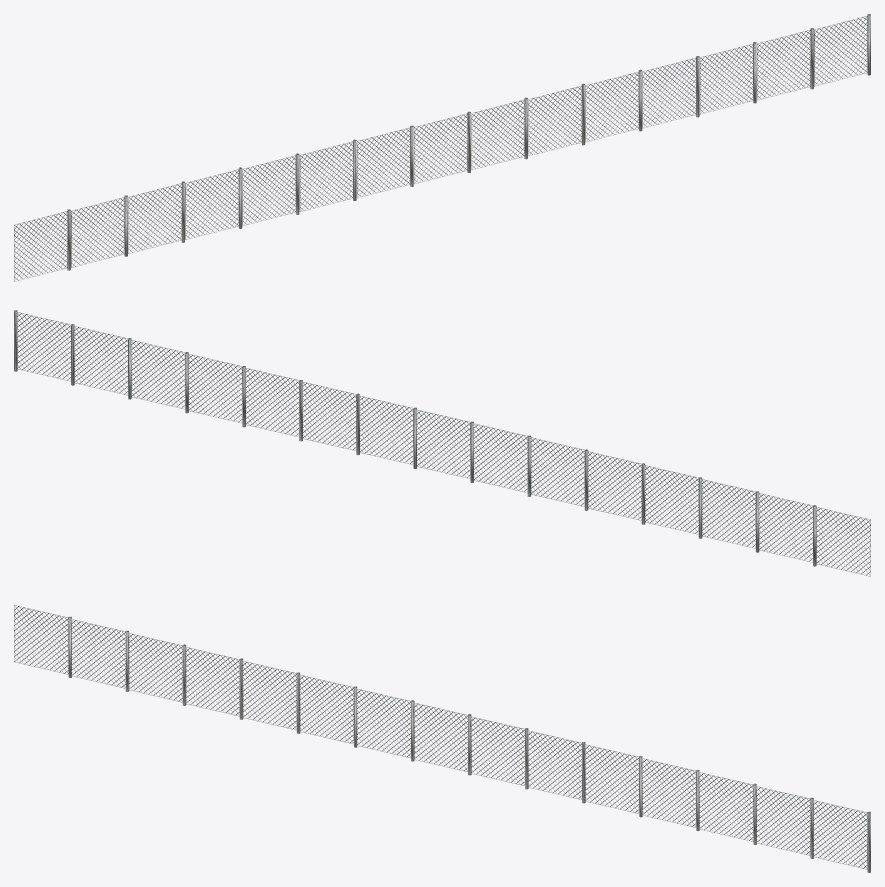
The model's file is fence.obj.
The picture shows the model from 3 angles, top to bottom: view 1: azimuth 30°, elevation 25°; view 2: azimuth 150°, elevation 25°; view 3: azimuth 330°, elevation 25°; orthographic projection.
Visible parts, largest first — view 1: Plane.004_Plane.006; view 2: Plane.004_Plane.006; view 3: Plane.004_Plane.006.
Boxes of the visible parts, box(x1,y1,x2,y2) form: Plane.004_Plane.006: box(14, 14, 870, 281); Plane.004_Plane.006: box(14, 310, 870, 576); Plane.004_Plane.006: box(14, 605, 870, 872).
Size of the model in its own units: 87.02 by 5.82 by 0.322.
Materials: 1 (1 with a texture image).
